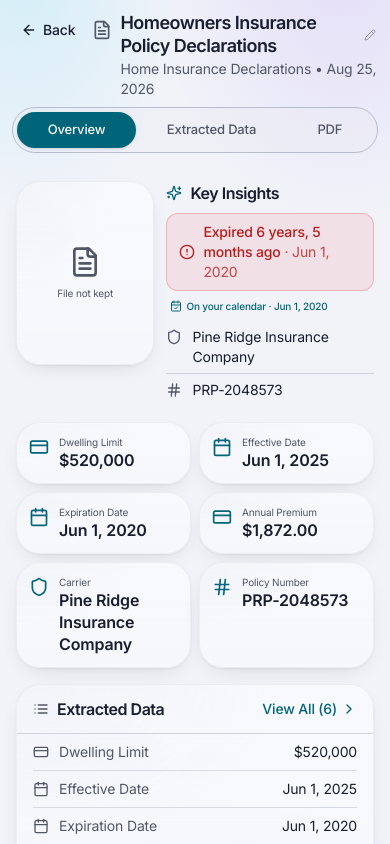
Test: the document view opens on the file › a file that was not kept opens on the Overview, with no thumbnail, zoom or download
Expected: the element with test id "doc-thumbnail-none" is shown, [16,180,154,365]
Step 1. Click the tab with test id "tab-doc-file" → (330, 130), box [287,112,373,148]
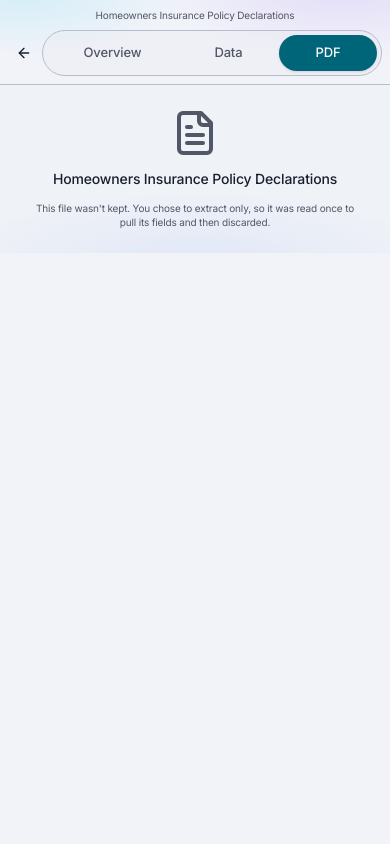
Result: the element with test id "preview-discarded" is shown at [36,108,354,228]
